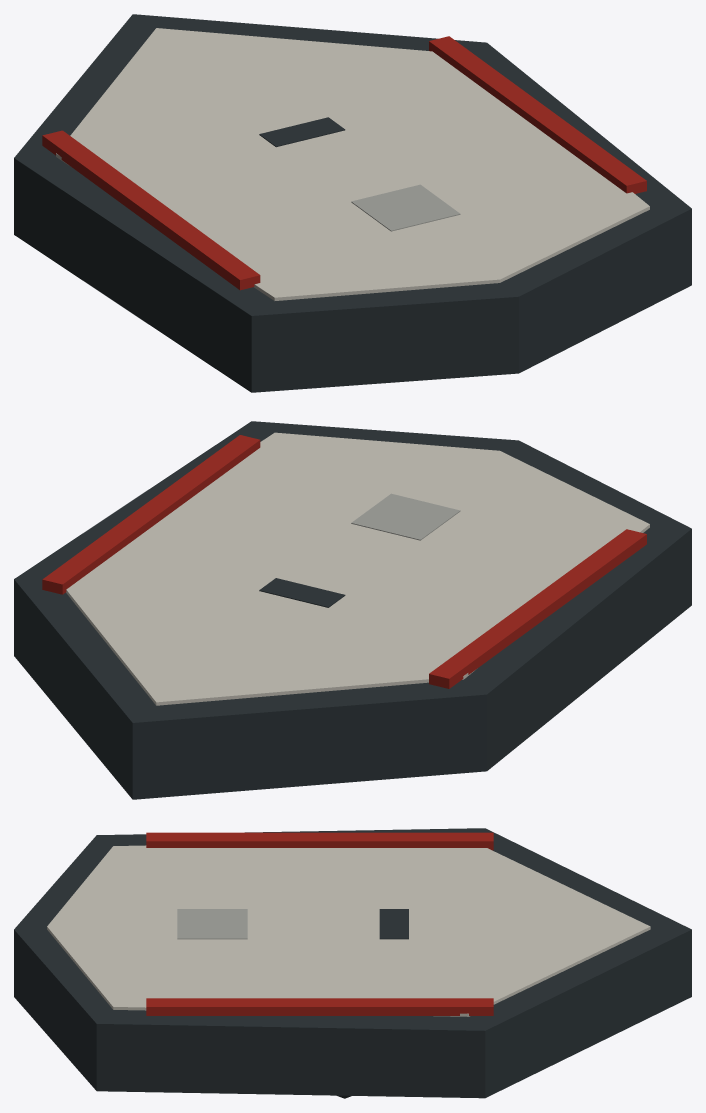
3 renders of one model, top to bottom at view 1: azimuth 30°, elevation 25°; view 2: azimuth 150°, elevation 25°; view 3: azimuth 270°, elevation 25°, orthographic. The views are drawn at different scales.
Parts seen in each view (by area): view 1: weapon-aegis-shield-painted; view 2: weapon-aegis-shield-painted; view 3: weapon-aegis-shield-painted.
Boxes of the visible parts, <box> form: weapon-aegis-shield-painted: <box>14,14,691,392</box>; weapon-aegis-shield-painted: <box>14,421,691,799</box>; weapon-aegis-shield-painted: <box>14,828,691,1098</box>.
Size of the model in its own units: 3.05 by 0.9632 by 4.32.
